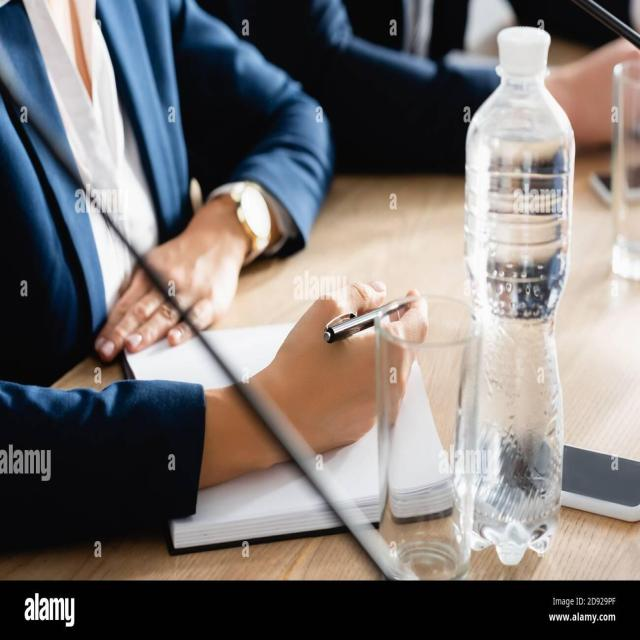bottle: (446, 10, 578, 573)
